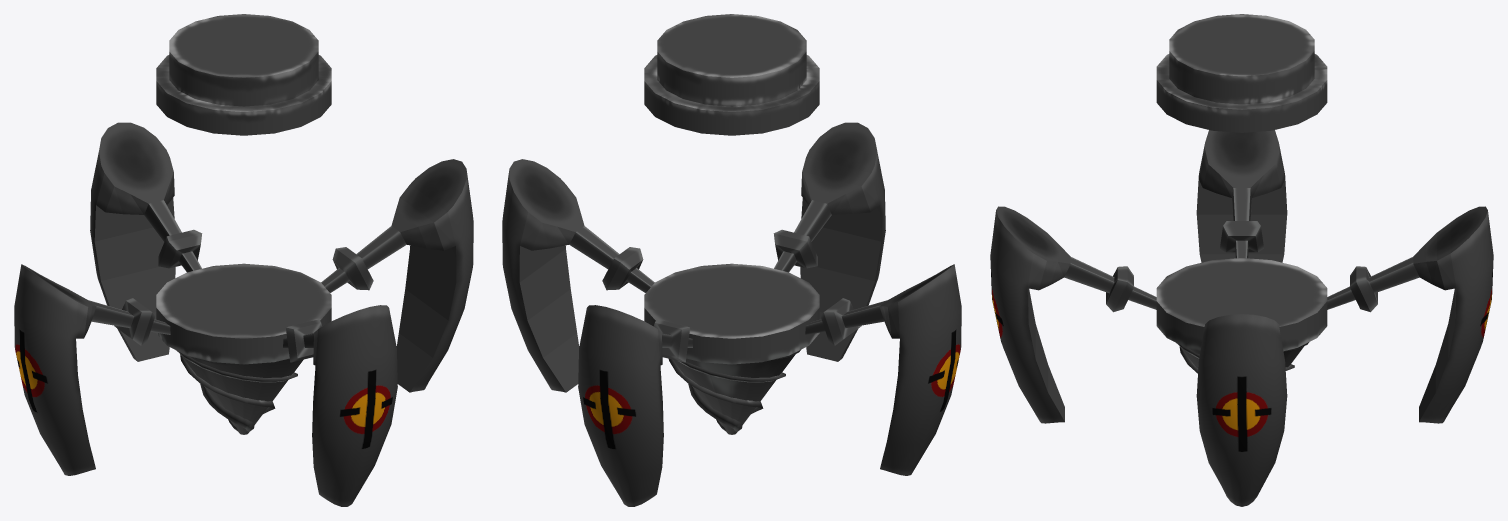
File: drill.FBX
The picture shows the model from 3 angles, left to right: view 1: azimuth 30°, elevation 25°; view 2: azimuth 150°, elevation 25°; view 3: azimuth 270°, elevation 25°; orthographic projection. The views are drawn at different scales.
Parts seen in each view (by area): view 1: Cylinder001, Cylinder006, Cylinder007, Cylinder005, Cylinder008; view 2: Cylinder001, Cylinder006, Cylinder005, Cylinder007, Cylinder008; view 3: Cylinder001, Cylinder006, Cylinder005, Cylinder007, Cylinder008.
Boxes of the visible parts, x1,y1,x2,y2 form: Cylinder001: (156,14,331,434); Cylinder006: (321,159,473,392); Cylinder007: (90,122,202,361); Cylinder005: (283,305,397,506); Cylinder008: (14,264,170,475); Cylinder001: (644,14,819,434); Cylinder006: (502,159,654,392); Cylinder005: (773,122,885,361); Cylinder007: (578,305,692,506); Cylinder008: (805,264,961,475); Cylinder001: (1156,14,1327,373); Cylinder006: (1196,314,1287,506); Cylinder005: (990,206,1156,423); Cylinder007: (1327,206,1493,423); Cylinder008: (1196,130,1287,262).
Size of the model in its own units: 163 by 135 by 163.
